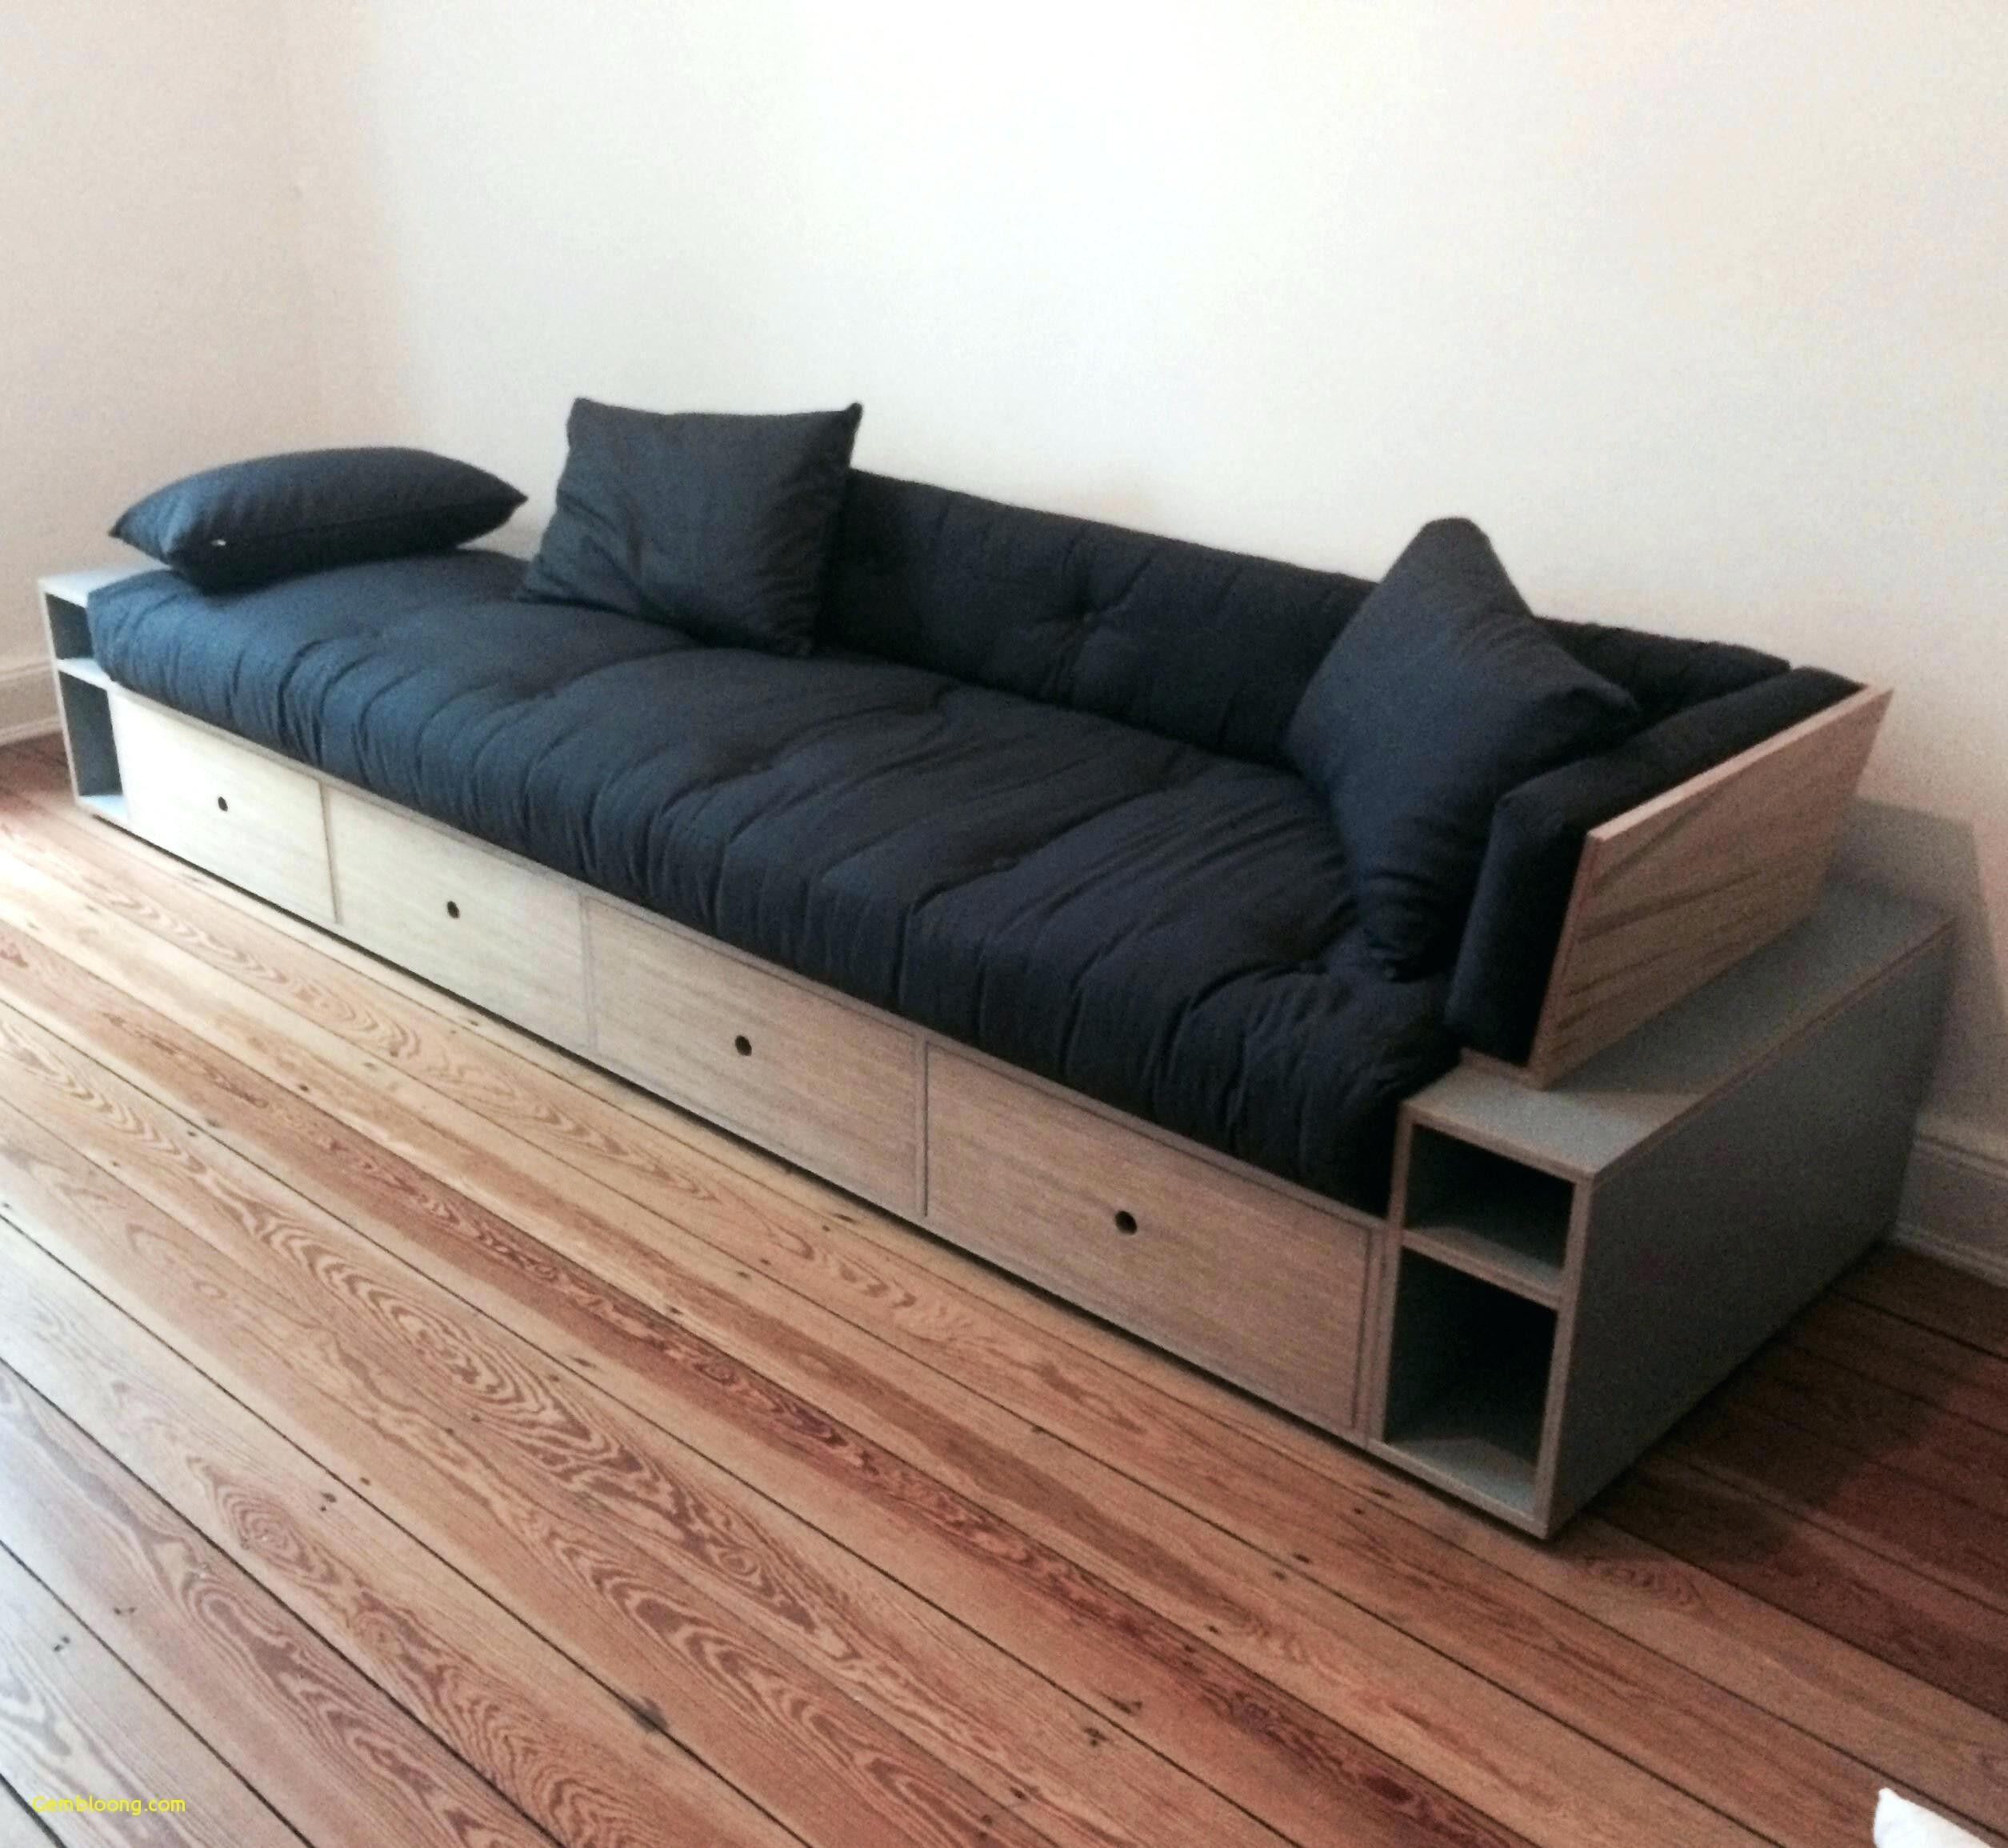bantal: (1286, 512, 1539, 939), (546, 386, 827, 668), (112, 434, 521, 584)
sova: (44, 400, 1900, 1521)
